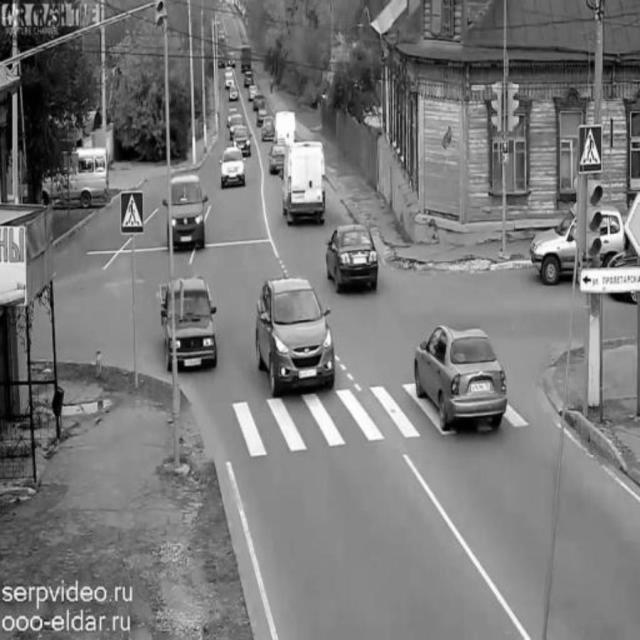vehicle: (415, 329, 507, 440), (254, 281, 335, 394), (532, 205, 628, 289), (161, 281, 215, 365), (280, 144, 327, 230), (42, 147, 110, 201), (164, 174, 208, 245), (329, 226, 377, 290), (219, 146, 247, 188), (236, 40, 256, 75), (231, 122, 251, 152), (262, 115, 278, 143), (248, 80, 260, 104), (226, 83, 240, 103)
